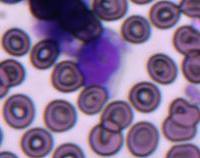M: (77, 26, 128, 87)
